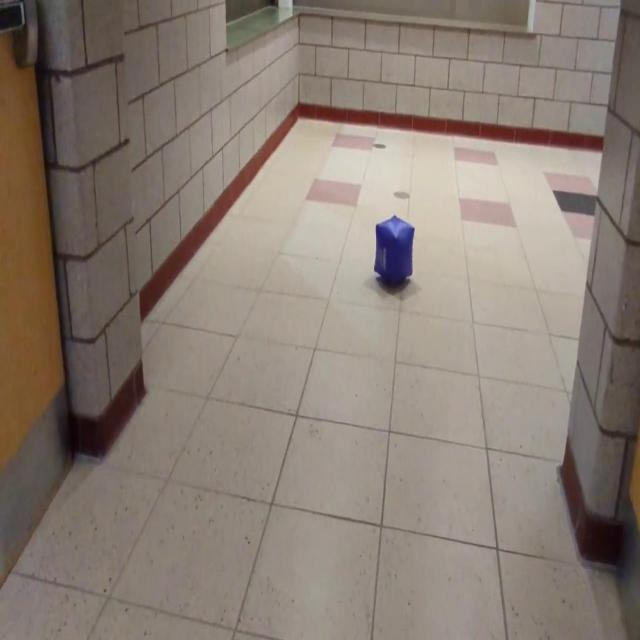frc_cube: (374, 218, 416, 284)
